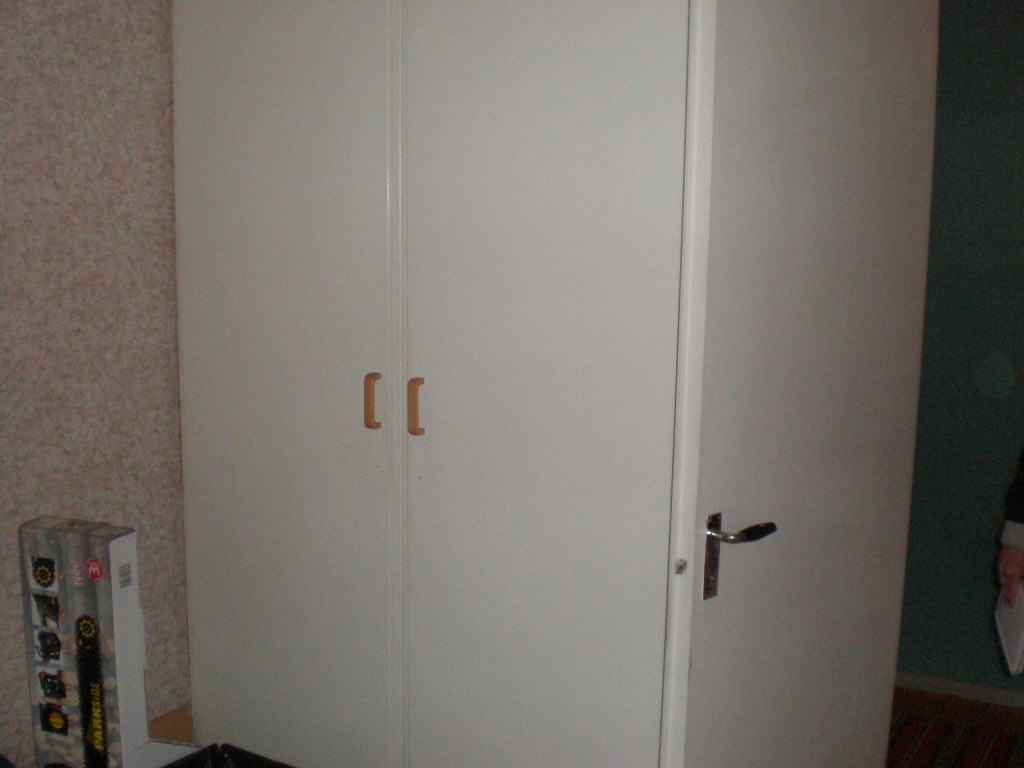cabinet door: (401, 18, 680, 768), (182, 11, 401, 763)
door: (710, 19, 905, 768)
handle: (718, 509, 778, 562), (358, 365, 391, 442), (402, 368, 430, 443)
